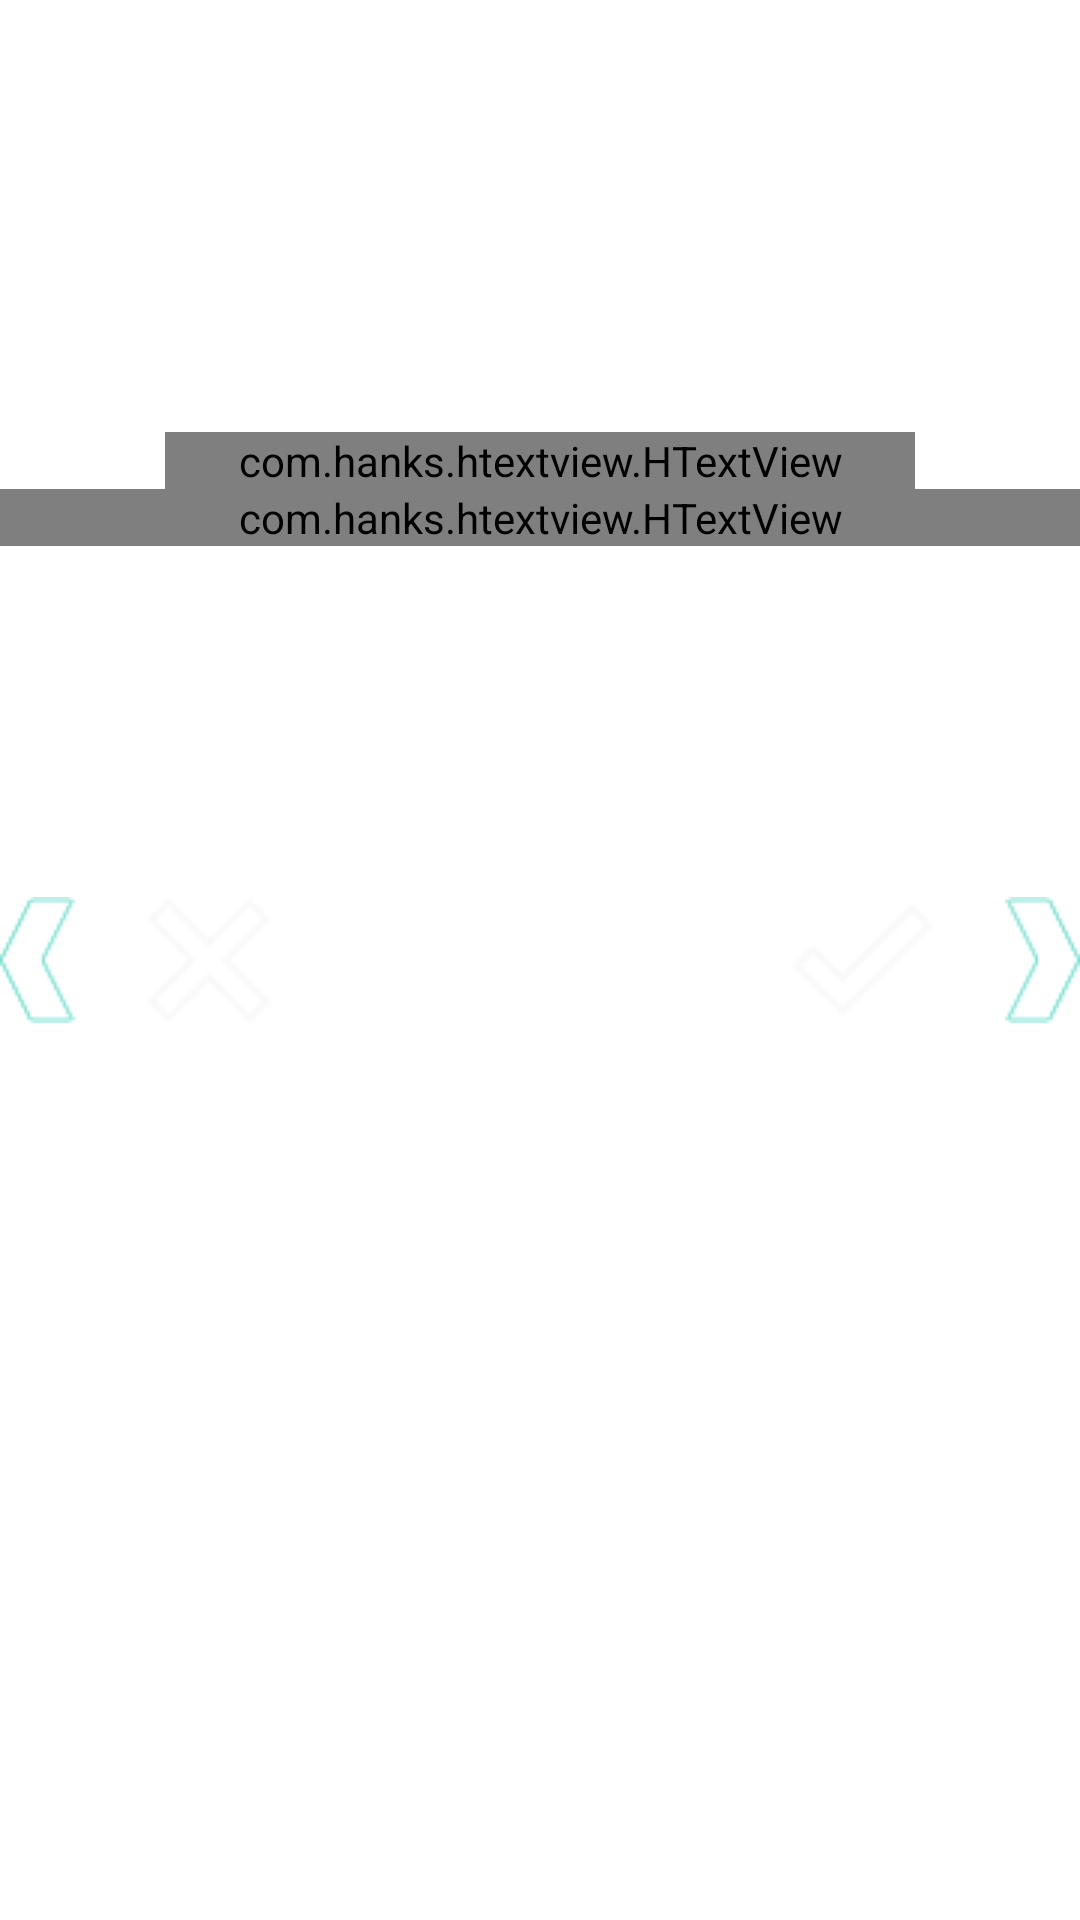

Icon bounding boxes for this 1080px×1920px phone screenshot, format (x1, y1, x2, y2):
leftchevron: (0, 897, 75, 1023)
rightchevron: (1005, 897, 1080, 1023)
